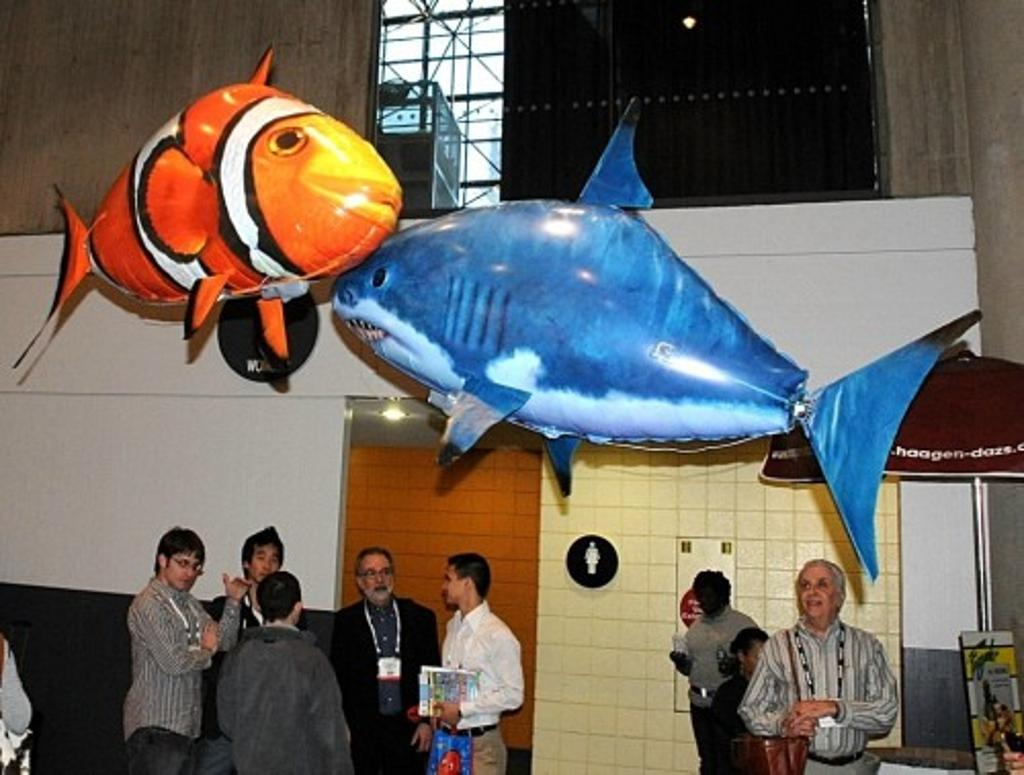face: (799, 566, 835, 618), (361, 554, 394, 602), (168, 548, 199, 590), (249, 544, 277, 580), (442, 563, 465, 603), (739, 637, 762, 673), (697, 590, 717, 615)
